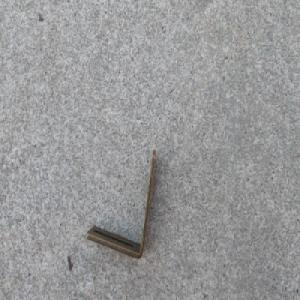MetalPart: (84, 148, 158, 261)
